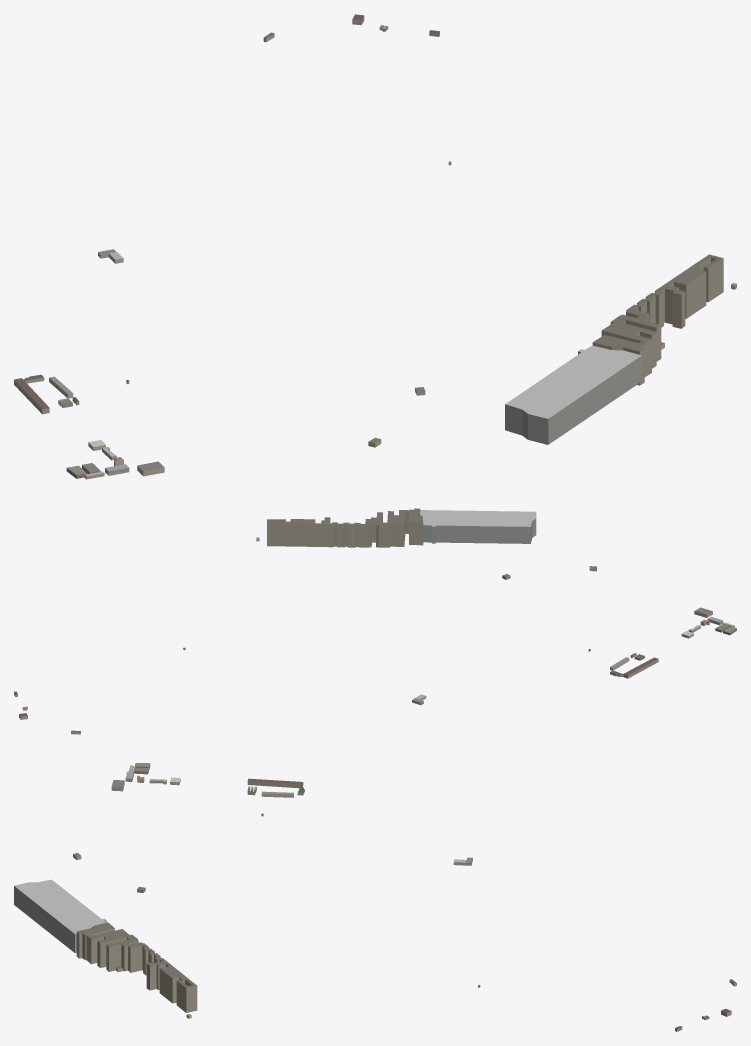
3 renders of one model, top to bottom at view 1: azimuth 30°, elevation 25°; view 2: azimuth 150°, elevation 25°; view 3: azimuth 270°, elevation 25°, orthographic. The views are drawn at different scales.
Visible parts, largest first — view 1: tuile; view 2: tuile; view 3: tuile.
Boxes of the visible parts, bbox=[...] form: tuile: bbox=[14, 14, 736, 479]; tuile: bbox=[14, 508, 736, 734]; tuile: bbox=[14, 763, 736, 1031].
Size of the model in its own units: 913 by 42.6 by 1064.
